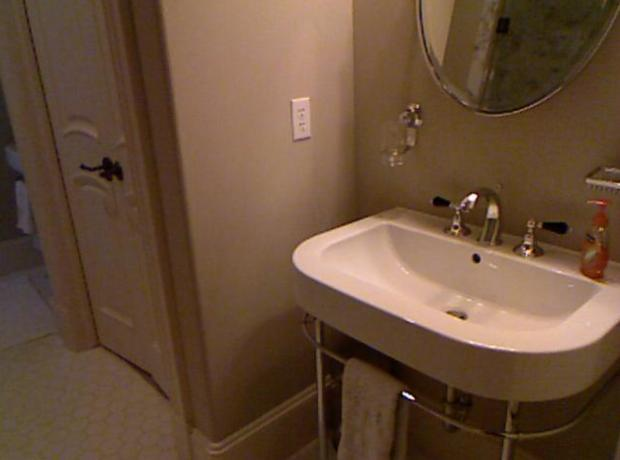Lavamanos: (296, 187, 617, 428)
